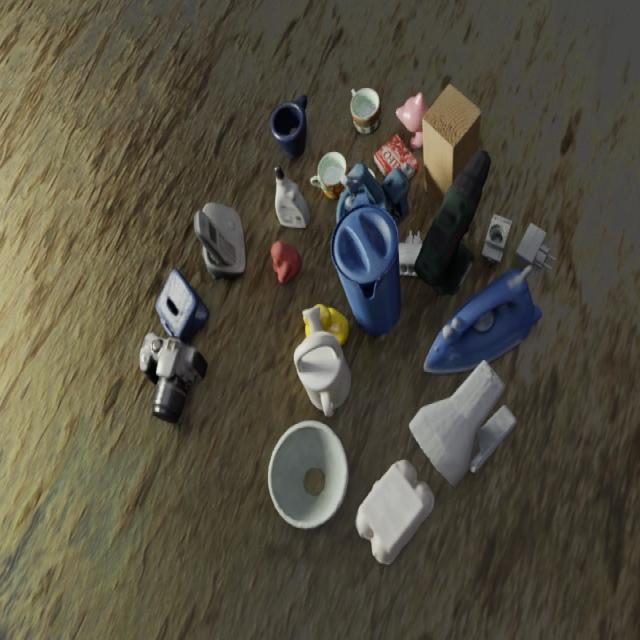Other Objects: (409, 361, 515, 484), (267, 420, 347, 528), (355, 460, 434, 564), (293, 307, 350, 416), (139, 333, 207, 423), (193, 203, 245, 277), (155, 269, 208, 341), (270, 95, 305, 159), (274, 165, 309, 228), (373, 133, 418, 177), (396, 92, 427, 149), (516, 223, 555, 268), (311, 151, 346, 199), (311, 304, 349, 344), (482, 215, 511, 261), (350, 88, 379, 133), (270, 240, 300, 283), (516, 223, 545, 264), (303, 311, 310, 336)
